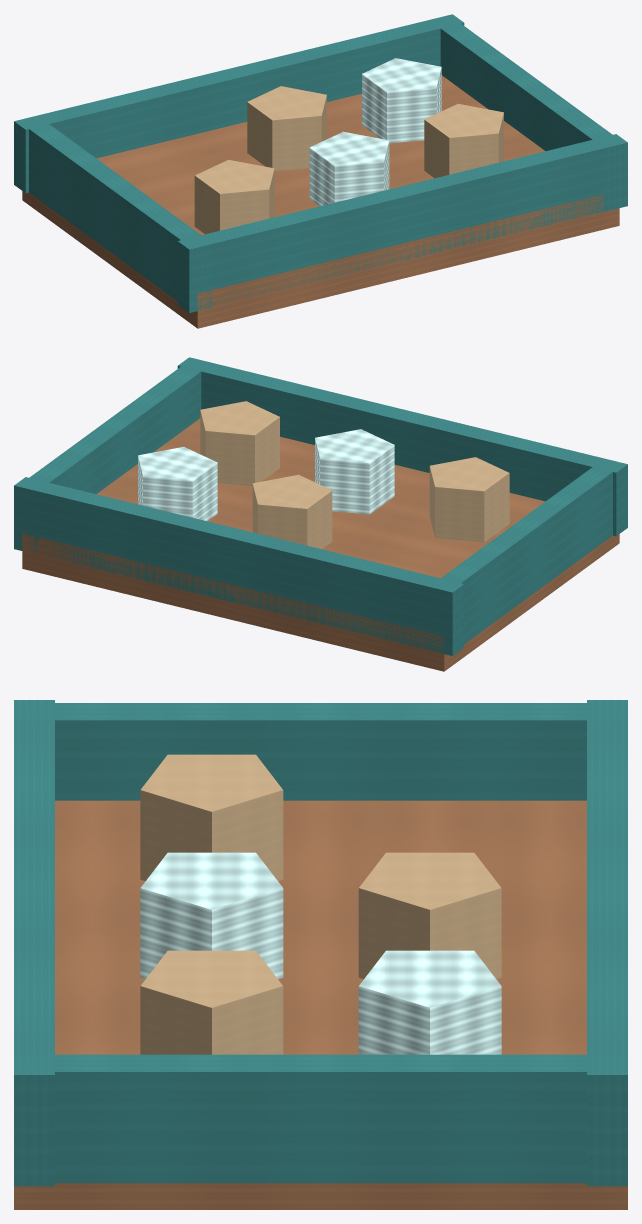
Rendered from atlas100-s091-a03.lod1.glb.
The picture shows the model from 3 angles, top to bottom: view 1: azimuth 30°, elevation 25°; view 2: azimuth 150°, elevation 25°; view 3: azimuth 270°, elevation 25°; orthographic projection. The views are drawn at different scales.
Visible parts, largest first — view 1: atlas100-s091-a03:part-000, atlas100-s091-a03:part-002, atlas100-s091-a03:part-001, atlas100-s091-a03:part-003, atlas100-s091-a03:part-004, atlas100-s091-a03:part-007, atlas100-s091-a03:part-006, atlas100-s091-a03:part-009, atlas100-s091-a03:part-008, atlas100-s091-a03:part-010; view 2: atlas100-s091-a03:part-001, atlas100-s091-a03:part-000, atlas100-s091-a03:part-002, atlas100-s091-a03:part-003, atlas100-s091-a03:part-004, atlas100-s091-a03:part-008, atlas100-s091-a03:part-009, atlas100-s091-a03:part-010, atlas100-s091-a03:part-006, atlas100-s091-a03:part-007; view 3: atlas100-s091-a03:part-000, atlas100-s091-a03:part-004, atlas100-s091-a03:part-003, atlas100-s091-a03:part-001, atlas100-s091-a03:part-002, atlas100-s091-a03:part-006, atlas100-s091-a03:part-008, atlas100-s091-a03:part-009, atlas100-s091-a03:part-007, atlas100-s091-a03:part-010.
Boxes of the visible parts, box(x1,y1,x2,y2) form: atlas100-s091-a03:part-000: box(22, 75, 619, 328); atlas100-s091-a03:part-002: box(177, 134, 627, 312); atlas100-s091-a03:part-001: box(14, 14, 464, 193); atlas100-s091-a03:part-003: box(29, 124, 212, 311); atlas100-s091-a03:part-004: box(430, 15, 624, 211); atlas100-s091-a03:part-007: box(362, 58, 441, 143); atlas100-s091-a03:part-006: box(247, 86, 326, 171); atlas100-s091-a03:part-009: box(309, 131, 389, 206); atlas100-s091-a03:part-008: box(194, 159, 274, 234); atlas100-s091-a03:part-010: box(424, 103, 503, 178); atlas100-s091-a03:part-001: box(14, 477, 464, 655); atlas100-s091-a03:part-000: box(22, 418, 619, 671); atlas100-s091-a03:part-002: box(177, 357, 627, 536); atlas100-s091-a03:part-003: box(429, 467, 612, 654); atlas100-s091-a03:part-004: box(17, 358, 211, 554); atlas100-s091-a03:part-008: box(429, 457, 509, 542); atlas100-s091-a03:part-009: box(315, 429, 394, 514); atlas100-s091-a03:part-010: box(200, 401, 279, 486); atlas100-s091-a03:part-006: box(252, 474, 332, 549); atlas100-s091-a03:part-007: box(138, 446, 217, 521); atlas100-s091-a03:part-000: box(14, 800, 627, 1209); atlas100-s091-a03:part-004: box(14, 1054, 627, 1183); atlas100-s091-a03:part-003: box(14, 703, 627, 800); atlas100-s091-a03:part-001: box(587, 700, 627, 1186); atlas100-s091-a03:part-002: box(14, 700, 54, 1186); atlas100-s091-a03:part-006: box(358, 852, 501, 978); atlas100-s091-a03:part-008: box(140, 754, 283, 880); atlas100-s091-a03:part-009: box(140, 852, 283, 978); atlas100-s091-a03:part-007: box(358, 950, 501, 1054); atlas100-s091-a03:part-010: box(140, 950, 283, 1054).
Bounding box in the file's own units: 1.36 × 0.2563 × 0.9414.
4 materials, 4 textured.
